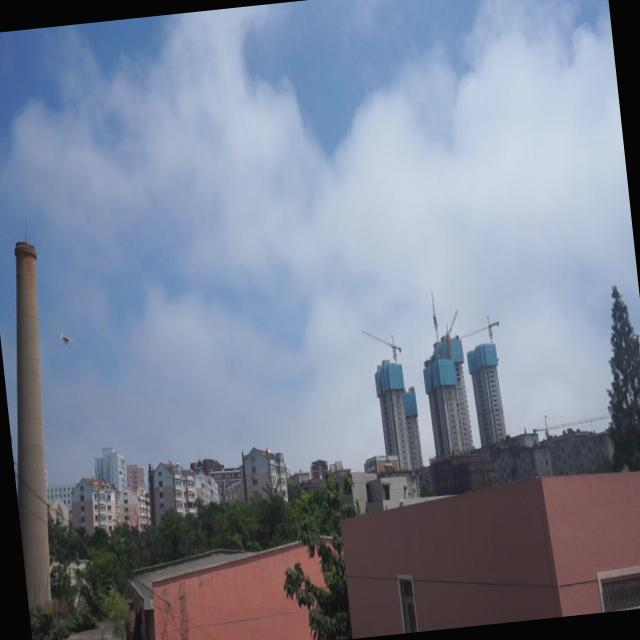drone: (58, 327, 73, 352)
